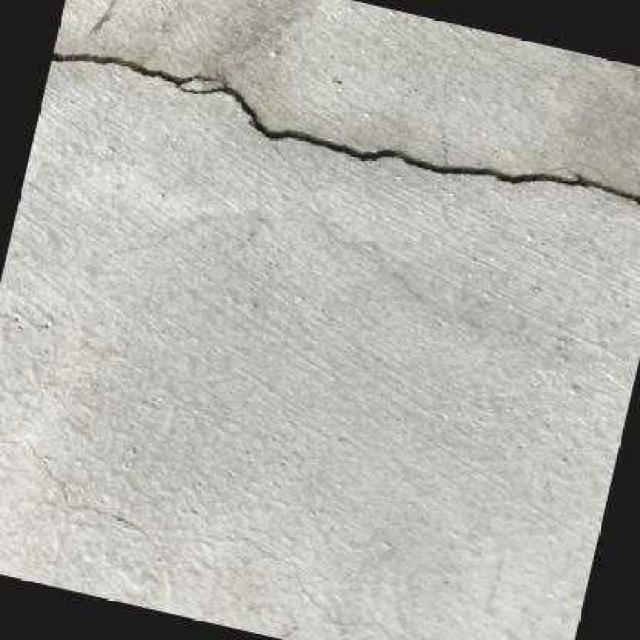D00: (52, 51, 640, 203)
